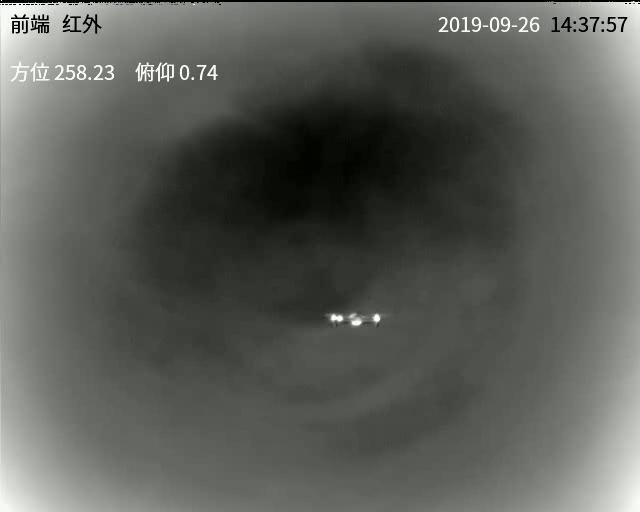DRONE: (329, 311, 381, 332)
